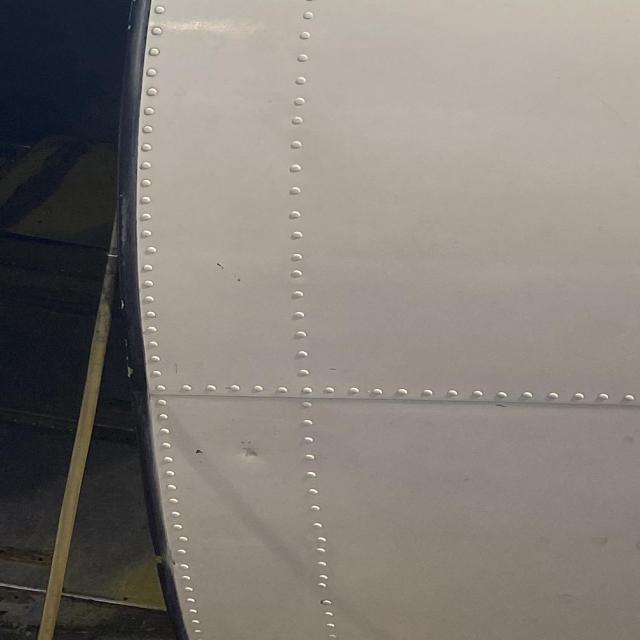Dent: (222, 430, 291, 475)
